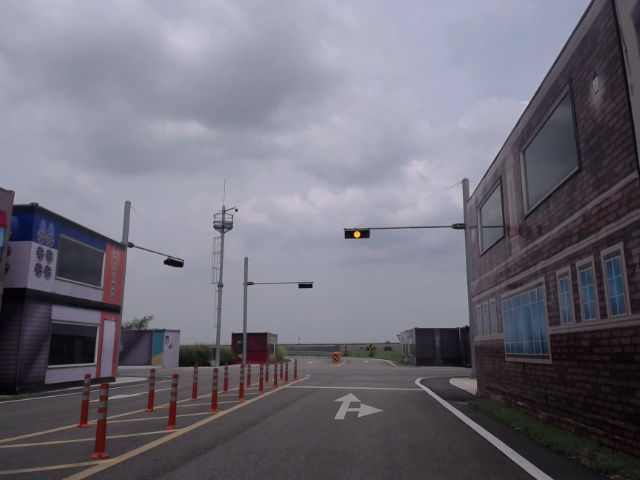orange_3: (344, 229, 370, 239)
